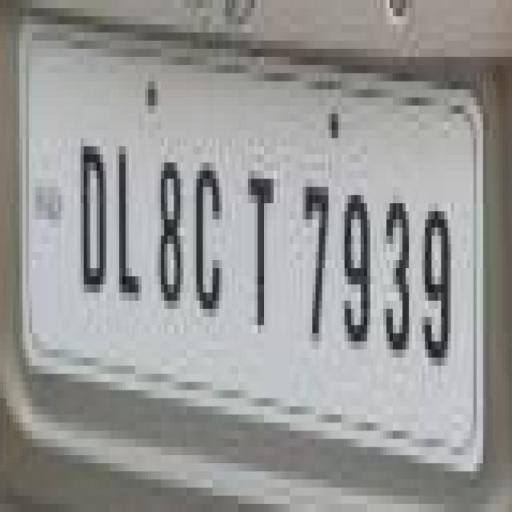number plate: (12, 42, 469, 416)
